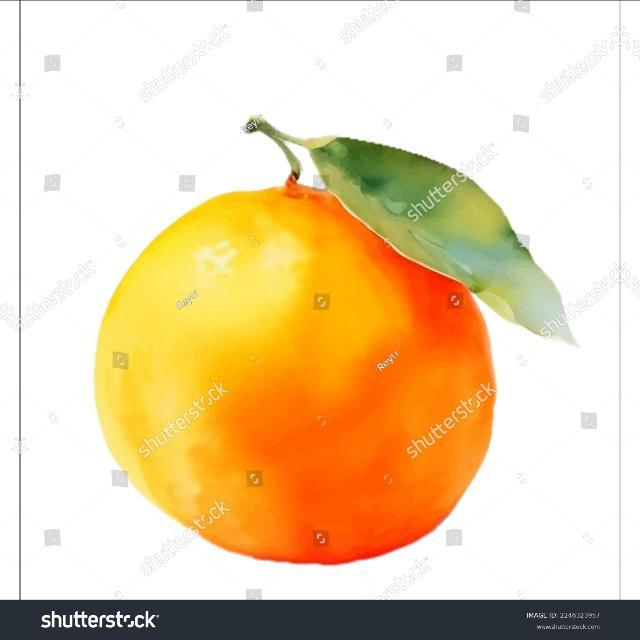Orange: (92, 177, 498, 565)
